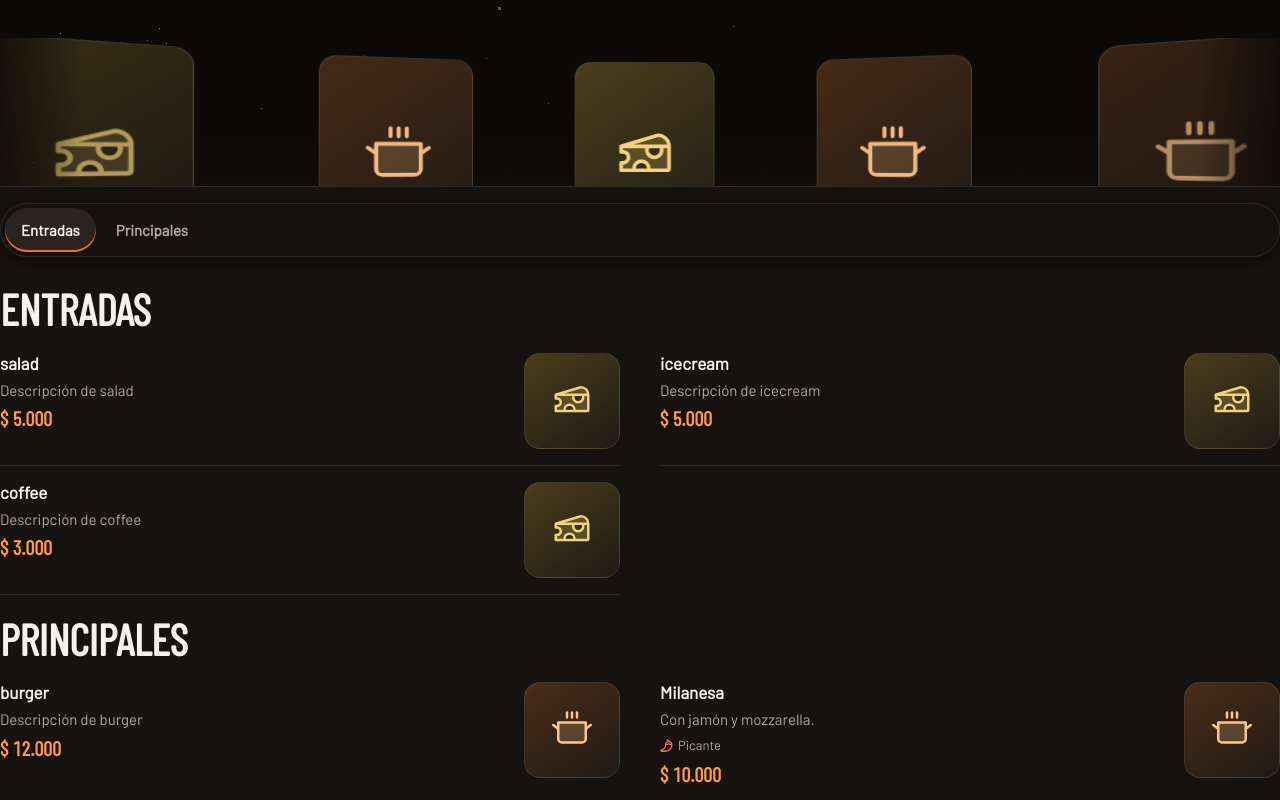
Test case: DishSheet: ficha del plato (RF2, RF6, RF14-RF20, RF34, RF43) › abrir y cerrar (RF14, RF43) › Escape la cierra y el foco vuelve a la fila del plato
(page scrolled)
Expected: the navigation bar is shown, [0, 203, 1279, 257]
Click the button "salad Descripción de salad $ 5.000": [19, 363] box [0, 337, 620, 465]
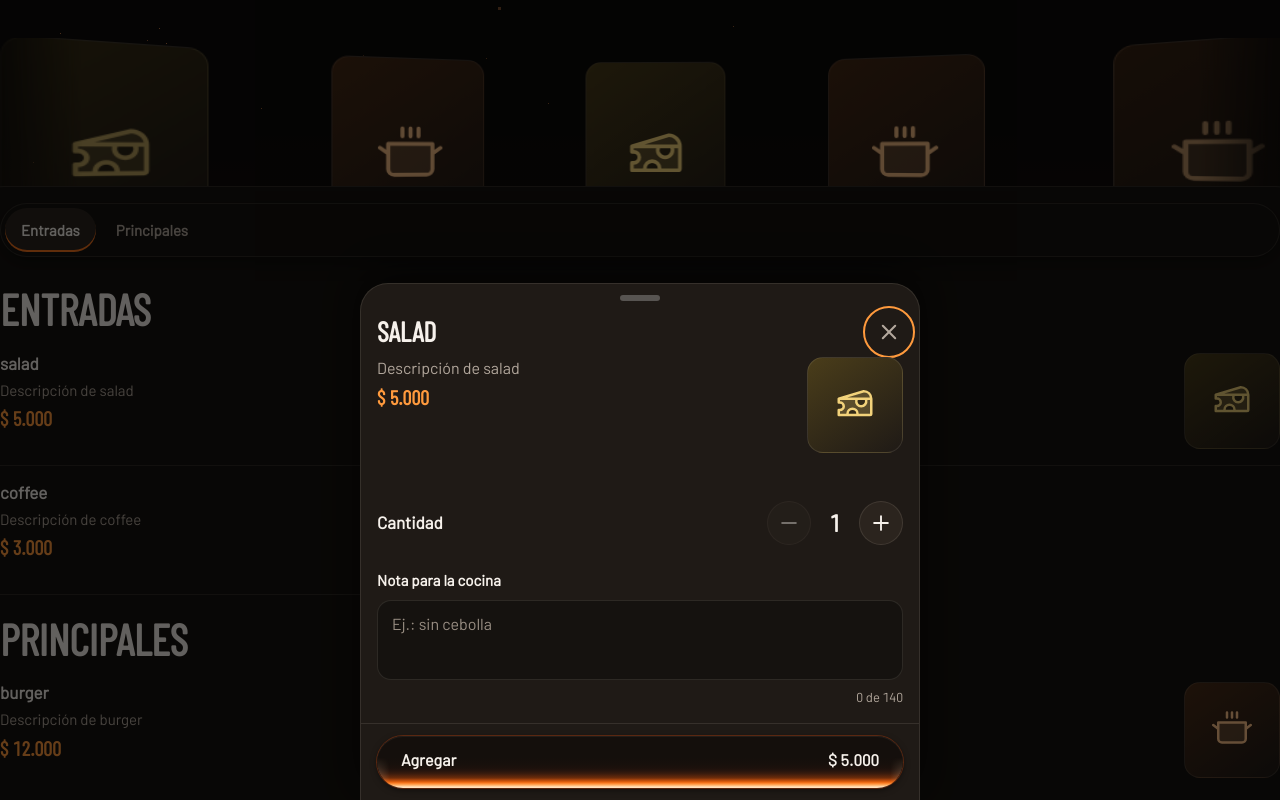
Press Escape
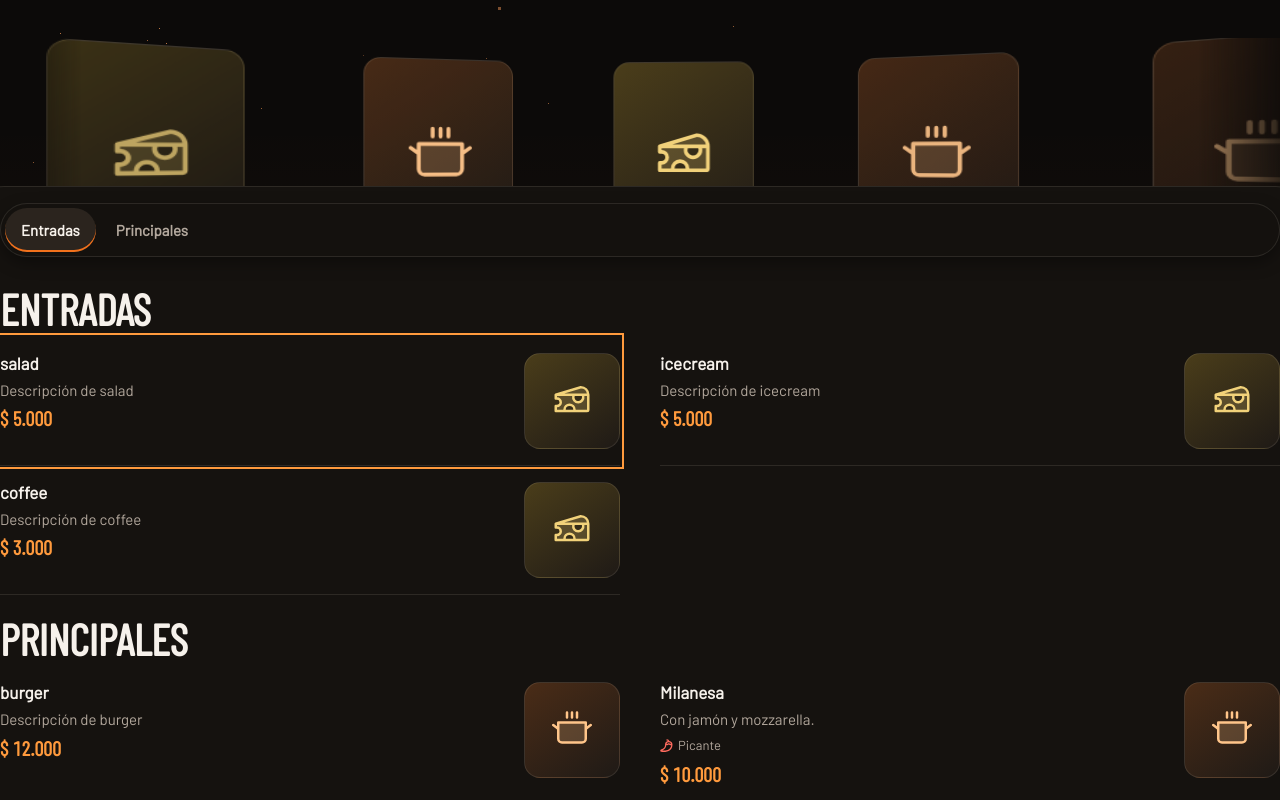
Expected: the dialog is gone
